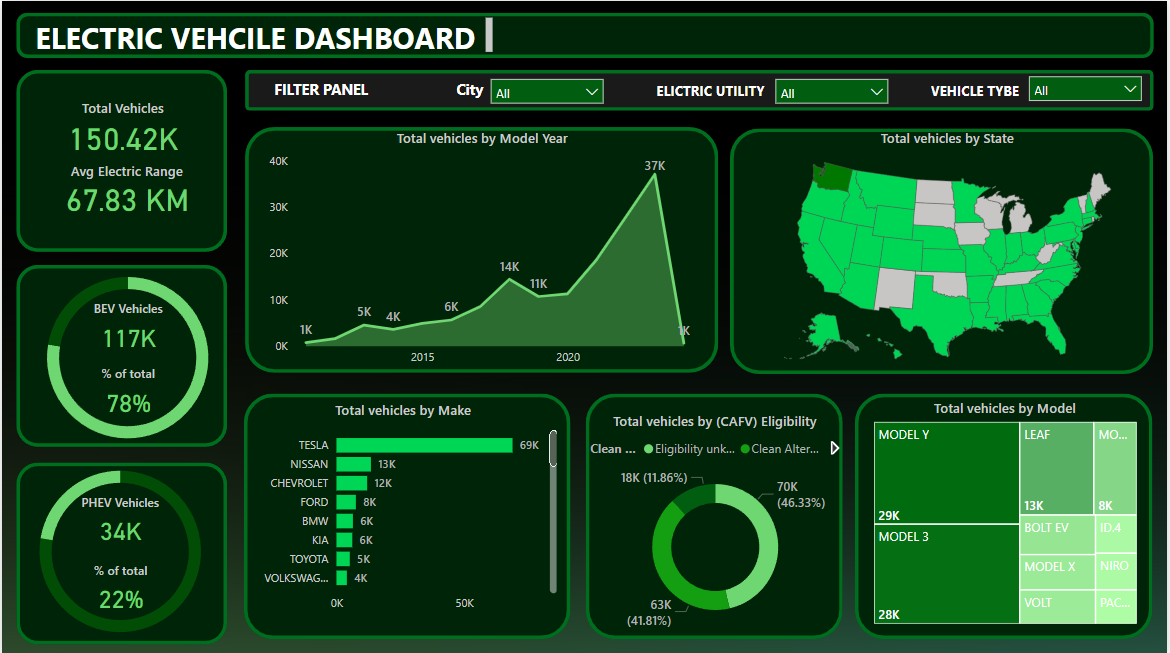

The page's visual inventory and layout, read from the dashboard file:
{"tool":"powerbi","page":{"name":"Page 1","canvas":[1280,720],"ordinal":0},"visuals":[{"type":"shape","box":[266.7,75,998.3,45],"z":0},{"type":"shape","box":[15,75,231.7,200],"z":1000},{"type":"card","title":"Total Vehicles","fields":{"Values":["Electric_Vehicle_Population_Data.Total vehicles"]},"box":[40.8,106.5,182.9,62.1],"z":2000},{"type":"shape","box":[15,13.3,1250,50],"z":3000},{"type":"textbox","box":[31.4,12.9,512.9,50],"z":4000},{"type":"card","title":"Avg Electric Range","fields":{"Values":["Electric_Vehicle_Population_Data.Avg range"]},"box":[53.3,175.7,168.6,60.4],"z":5000},{"type":"shape","box":[15,290,231.7,200],"z":6000},{"type":"shape","box":[15,506.7,231.7,200],"z":7000},{"type":"donutChart","fields":{"Category":["Electric_Vehicle_Population_Data.Electric Vehicle Type"],"Y":["Electric_Vehicle_Population_Data.Total vehicles"]},"box":[8.3,275,258.3,231.7],"z":8000},{"type":"card","title":"BEV Vehicles","fields":{"Values":["Electric_Vehicle_Population_Data.BEV VEHICLES"]},"box":[76.9,328.8,123.1,63.1],"z":9000},{"type":"card","title":"% of total","fields":{"Values":["Electric_Vehicle_Population_Data.% of Bev"]},"box":[77.5,400,123.1,63.8],"z":10000},{"type":"donutChart","fields":{"Category":["Electric_Vehicle_Population_Data.Electric Vehicle Type"],"Y":["Electric_Vehicle_Population_Data.Total vehicles"]},"box":[0,488.2,259.1,231.8],"z":11000},{"type":"card","title":"PHEV Vehicles","fields":{"Values":["Electric_Vehicle_Population_Data.PHEV VEHICLES"]},"box":[69.1,541.8,122.7,62.7],"z":12000},{"type":"card","title":"% of total","fields":{"Values":["Electric_Vehicle_Population_Data.% of PHEV"]},"box":[69.1,616.4,123.6,63.6],"z":13000},{"type":"shape","box":[266.7,138.3,520,270],"z":14000},{"type":"areaChart","fields":{"Category":["Electric_Vehicle_Population_Data.Model Year"],"Y":["Electric_Vehicle_Population_Data.Total vehicles"]},"box":[288.3,140,478.3,270],"z":15000},{"type":"shape","box":[800,140,465,270],"z":16000},{"type":"shapeMap","fields":{"Category":["Electric_Vehicle_Population_Data.State"],"Value":["Electric_Vehicle_Population_Data.Total vehicles"]},"box":[806.7,140,463.3,270],"z":17000},{"type":"shape","box":[266.1,431.6,359,269.9],"z":18000},{"type":"barChart","fields":{"Y":["Electric_Vehicle_Population_Data.Total vehicles"],"Category":["Electric_Vehicle_Population_Data.Make"]},"box":[267.3,437.9,347.5,241.9],"z":19000},{"type":"shape","box":[641.6,431.6,282.6,269.9],"z":20000},{"type":"donutChart","title":"Total vehicles by (CAFV) Eligibility","fields":{"Category":["Electric_Vehicle_Population_Data.Clean Alternative Fuel Vehicle (CAFV) Eligibility"],"Y":["Electric_Vehicle_Population_Data.Total vehicles"]},"box":[641,450.8,283.9,247.3],"z":21000},{"type":"shape","box":[937,431.6,327.2,269.9],"z":22000},{"type":"treemap","fields":{"Group":["Electric_Vehicle_Population_Data.Model"],"Values":["Electric_Vehicle_Population_Data.Total vehicles"]},"box":[952.7,437.6,298.6,251.7],"z":23000},{"type":"textbox","box":[294.2,82,146.3,38.1],"z":24000},{"type":"slicer","fields":{"Values":["Electric_Vehicle_Population_Data.City"]},"box":[527,75.1,143.9,42],"z":24001},{"type":"textbox","box":[493.9,81.5,146.4,38.2],"z":24002},{"type":"slicer","fields":{"Values":["Electric_Vehicle_Population_Data.Electric Utility"]},"box":[840,75.4,143.8,41.5],"z":24003},{"type":"textbox","box":[713.8,82.3,186.9,38.5],"z":24004},{"type":"slicer","fields":{"Values":["Electric_Vehicle_Population_Data.Electric Vehicle Type"]},"box":[1118.6,73,143.8,41.5],"z":24005},{"type":"textbox","box":[1016.2,82.3,110,38.5],"z":24006}]}

Visuals, with their boxes in screenshot pixels (x1, y1, x2, y2), scaled from the page's 1280x720 canvas onto the 1170x653 screenshot:
shape: 244,68,1156,109
shape: 14,68,225,249
"Total Vehicles" card: 37,97,204,153
shape: 14,12,1156,57
textbox: 29,12,498,57
"Avg Electric Range" card: 49,159,203,214
shape: 14,263,225,444
shape: 14,460,225,641
donutChart - Electric_Vehicle_Population_Data.Electric Vehicle Type x Electric_Vehicle_Population_Data.Total vehicles: 8,249,244,460
"BEV Vehicles" card: 70,298,183,355
"% of total" card: 71,363,183,421
donutChart - Electric_Vehicle_Population_Data.Electric Vehicle Type x Electric_Vehicle_Population_Data.Total vehicles: 0,443,237,652
"PHEV Vehicles" card: 63,491,175,548
"% of total" card: 63,559,176,617
shape: 244,125,719,370
areaChart - Electric_Vehicle_Population_Data.Model Year x Electric_Vehicle_Population_Data.Total vehicles: 264,127,701,372
shape: 731,127,1156,372
shapeMap - Electric_Vehicle_Population_Data.State x Electric_Vehicle_Population_Data.Total vehicles: 737,127,1161,372
shape: 243,391,571,636
barChart - Electric_Vehicle_Population_Data.Total vehicles x Electric_Vehicle_Population_Data.Make: 244,397,562,617
shape: 586,391,845,636
"Total vehicles by (CAFV) Eligibility" donutChart: 586,409,845,633
shape: 856,391,1156,636
treemap - Electric_Vehicle_Population_Data.Model x Electric_Vehicle_Population_Data.Total vehicles: 871,397,1144,625
textbox: 269,74,403,109
slicer - Electric_Vehicle_Population_Data.City: 482,68,613,106
textbox: 451,74,585,109
slicer - Electric_Vehicle_Population_Data.Electric Utility: 768,68,899,106
textbox: 652,75,823,110
slicer - Electric_Vehicle_Population_Data.Electric Vehicle Type: 1022,66,1154,104
textbox: 929,75,1029,110
